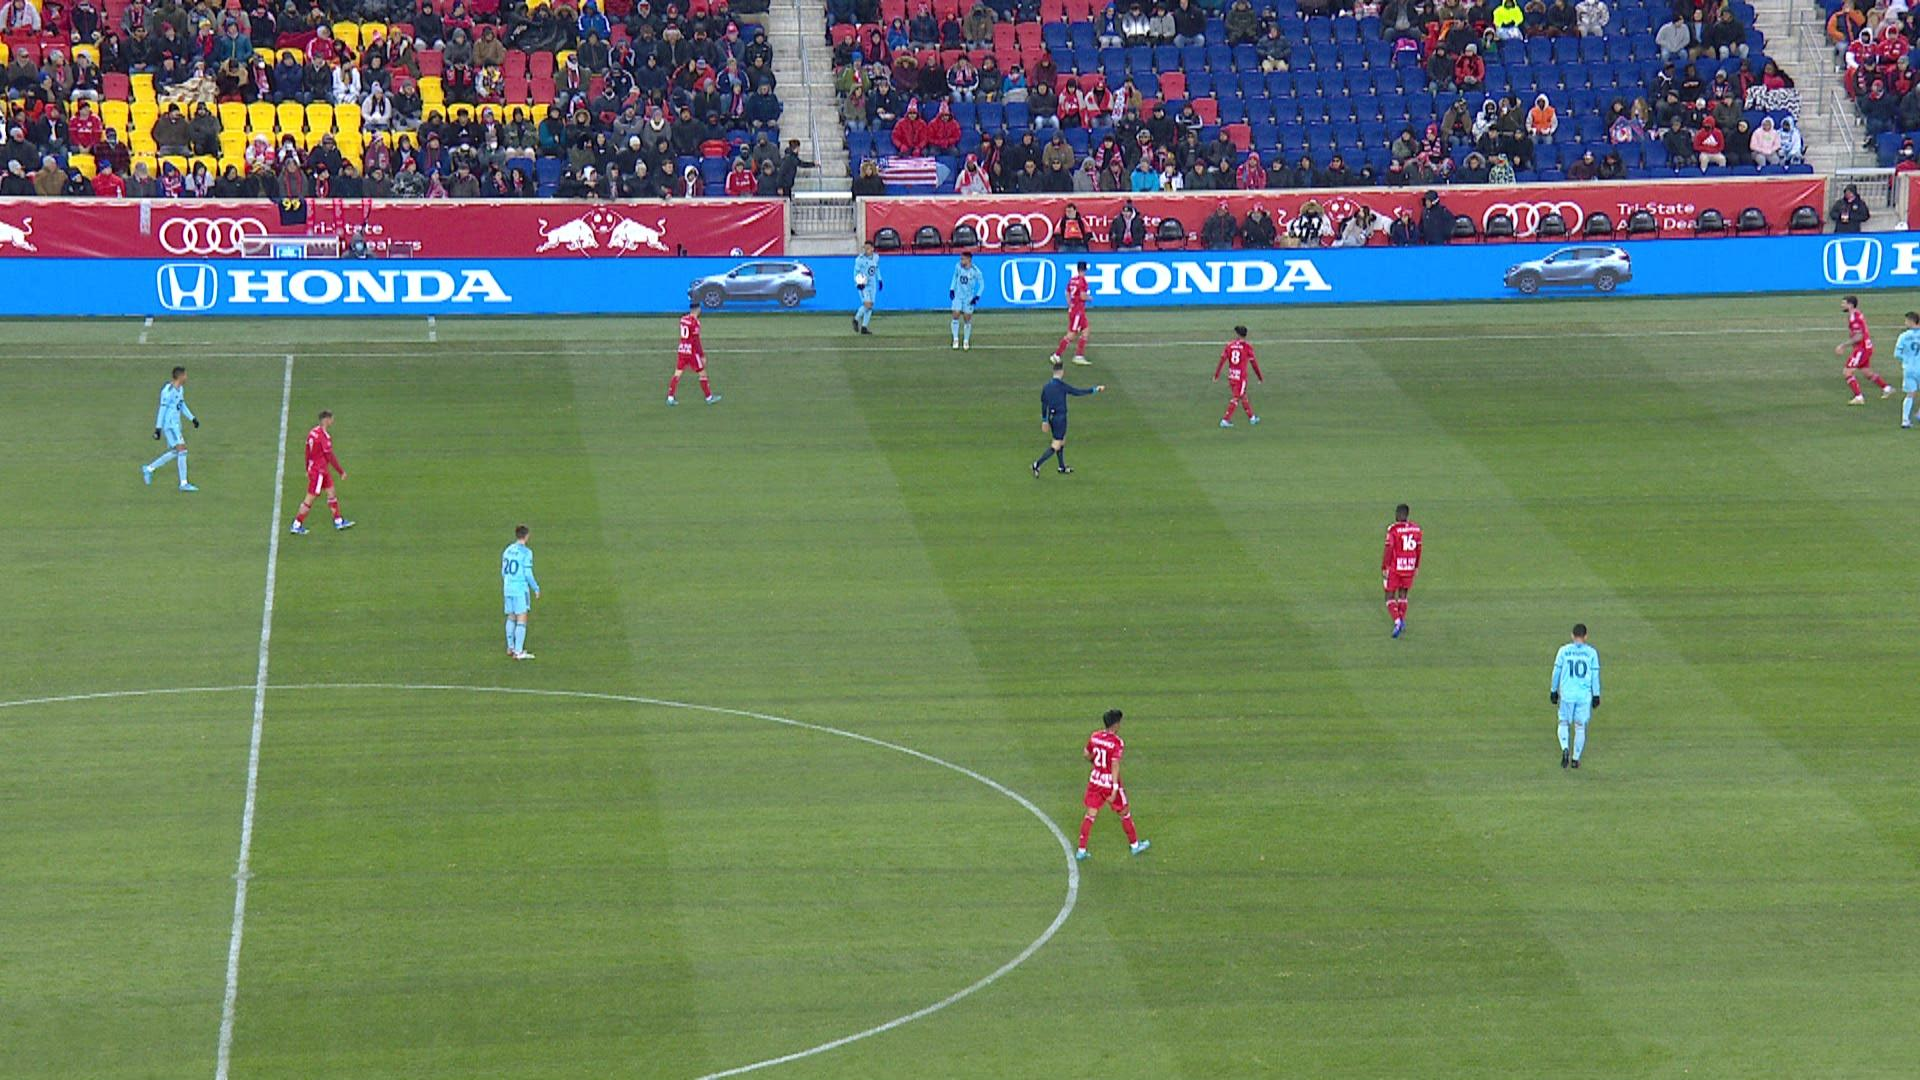football: (856, 273, 868, 284)
